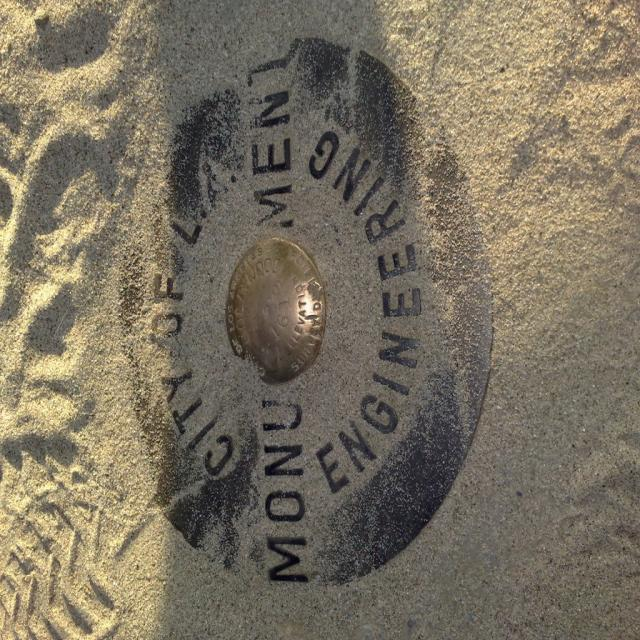Coin: (225, 231, 329, 375)
